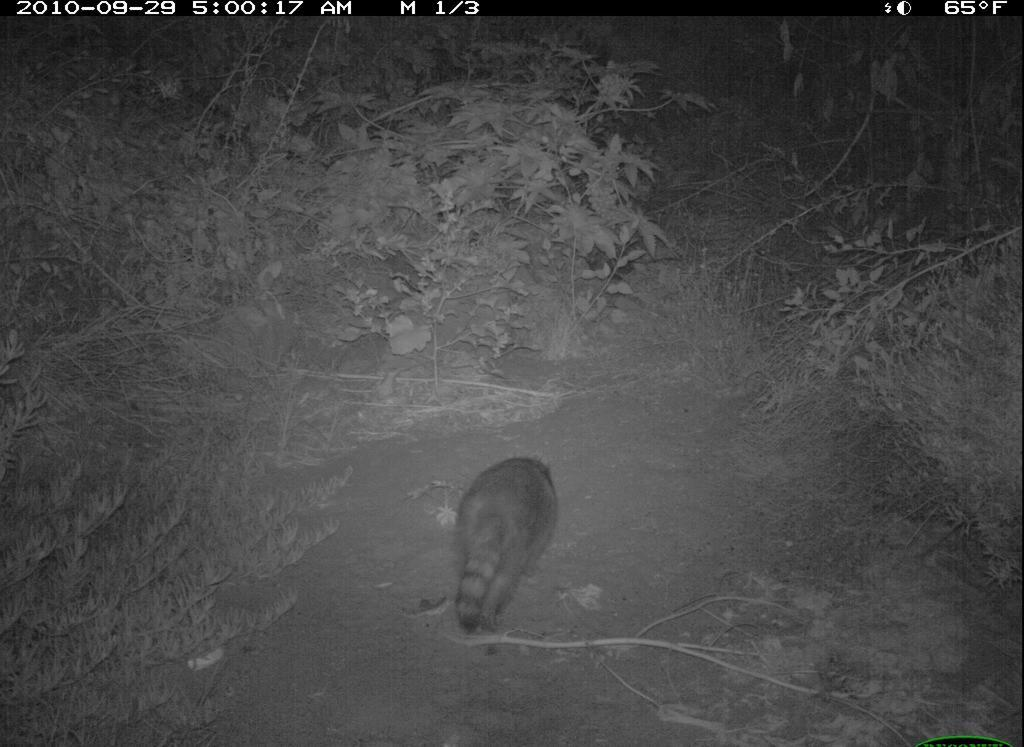raccoon: (432, 434, 584, 661)
